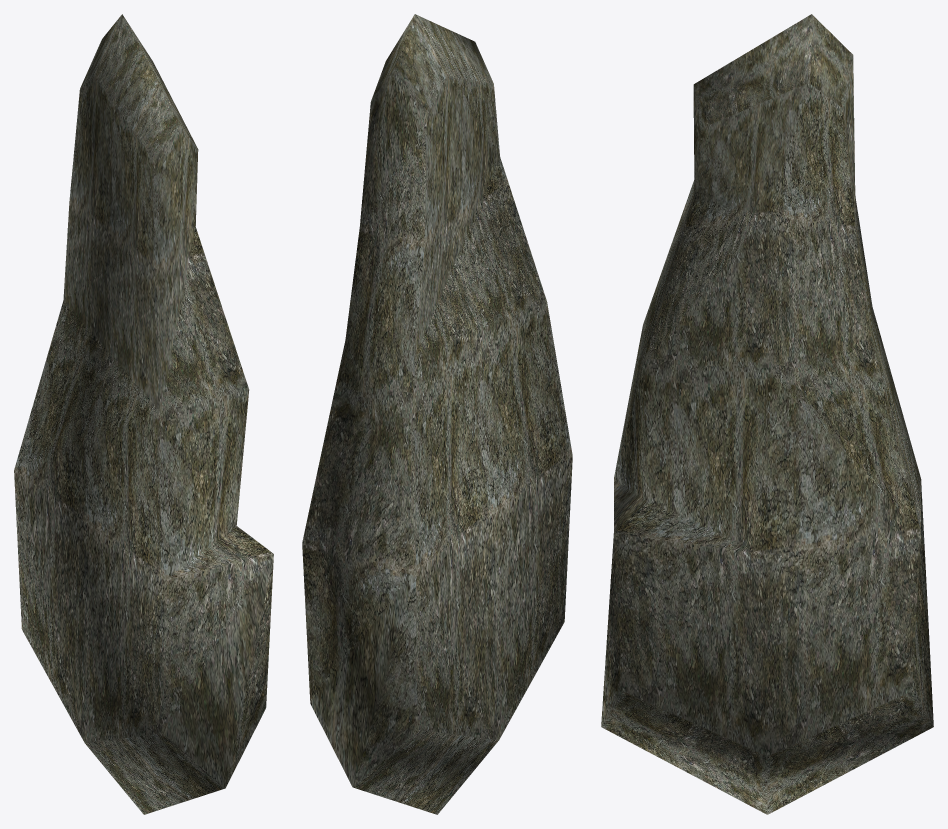
The model's file is rock_dant_a1_l2.fbx.
3 views of the same model, side by side, from view 1: azimuth 30°, elevation 25°; view 2: azimuth 150°, elevation 25°; view 3: azimuth 270°, elevation 25° (orthographic). The views are drawn at different scales.
Parts seen in each view (by area): view 1: mesh_node; view 2: mesh_node; view 3: mesh_node.
Part boxes in pixels (box(x1,y1,x2,y2)): mesh_node: box(14, 14, 273, 814); mesh_node: box(302, 14, 572, 814); mesh_node: box(601, 14, 933, 814).
Bounding box in the file's own units: 0.9382 × 5.66 × 2.13.
1 material, 1 textured.
